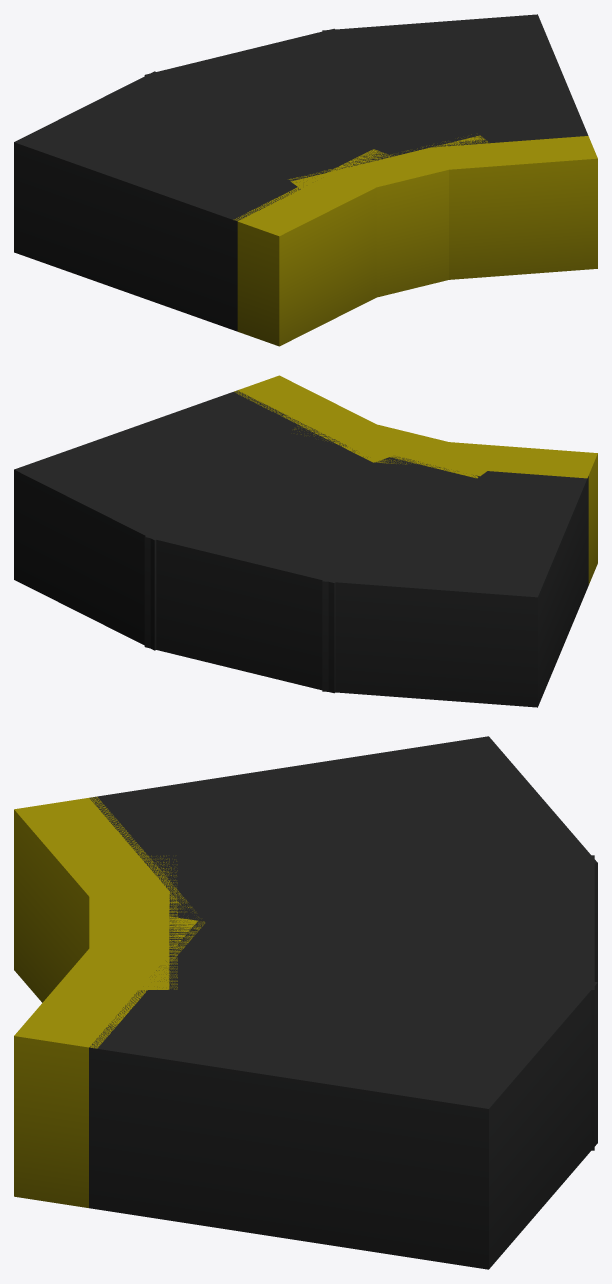
The model's file is firearm-magazine.glb.
The picture shows the model from 3 angles, top to bottom: view 1: azimuth 30°, elevation 25°; view 2: azimuth 150°, elevation 25°; view 3: azimuth 270°, elevation 25°; orthographic projection. The views are drawn at different scales.
Parts seen in each view (by area): view 1: firearm-magazine; view 2: firearm-magazine; view 3: firearm-magazine.
Part boxes in pixels (x1,y1,x2,y2): firearm-magazine: (14,14,597,346); firearm-magazine: (14,375,597,707); firearm-magazine: (14,736,597,1269).
Size of the model in its own units: 0.2487 by 0.05 by 0.1647.
